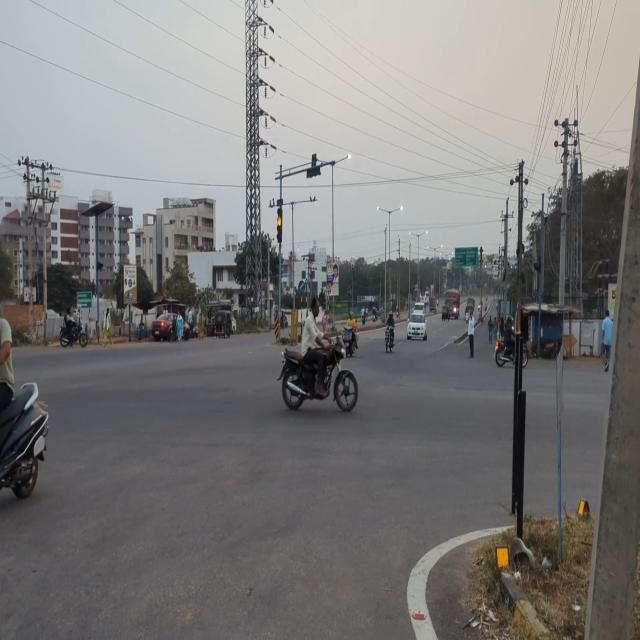bien_cam: (296, 278, 306, 296), (325, 281, 332, 295)
